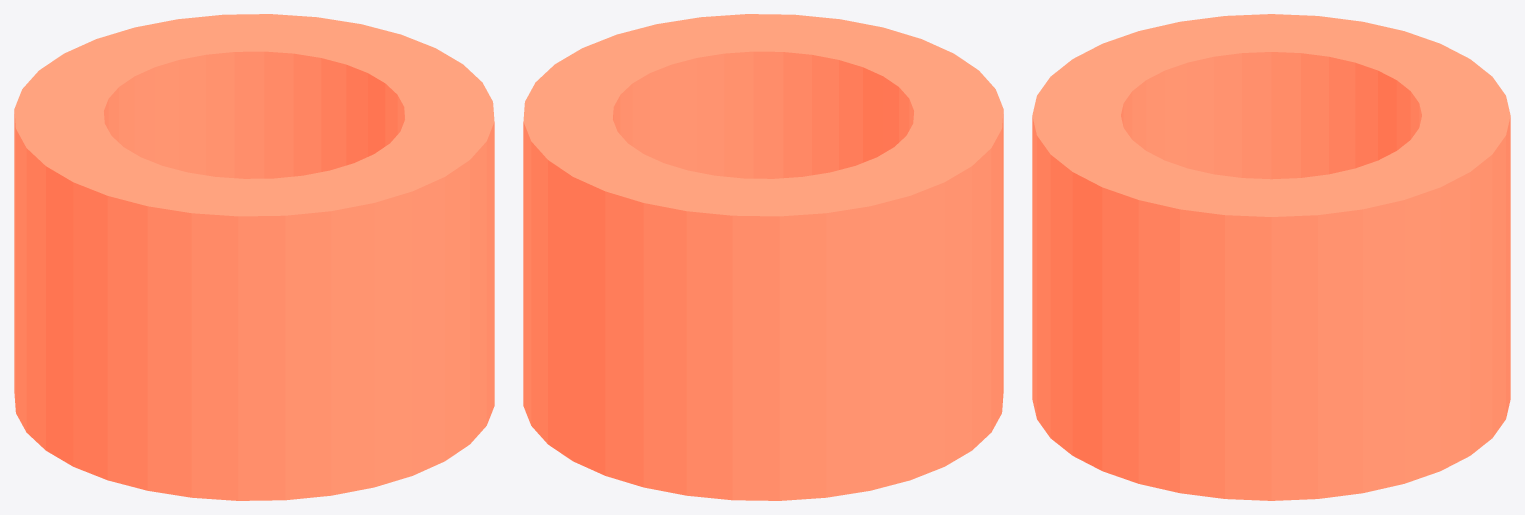
Rendered from ondas_emission.glb.
3 renders of one model, left to right at view 1: azimuth 30°, elevation 25°; view 2: azimuth 150°, elevation 25°; view 3: azimuth 270°, elevation 25°, orthographic.
Parts seen in each view (by area): view 1: Circle.001, Circle.003, Circle.002, Circle.004; view 2: Circle.001, Circle.003, Circle.002, Circle.004; view 3: Circle.001, Circle.003, Circle.002, Circle.004.
Boxes of the visible parts, <box> form: Circle.001: <box>14,14,494,500</box>; Circle.003: <box>46,27,462,203</box>; Circle.002: <box>77,41,431,189</box>; Circle.004: <box>69,35,429,194</box>; Circle.001: <box>523,14,1003,500</box>; Circle.003: <box>555,27,971,203</box>; Circle.002: <box>585,40,941,190</box>; Circle.004: <box>577,36,949,194</box>; Circle.001: <box>1032,14,1510,500</box>; Circle.003: <box>1063,28,1479,203</box>; Circle.002: <box>1095,40,1447,190</box>; Circle.004: <box>1082,36,1460,193</box>.
Size of the model in its own units: 9.97 by 6.5 by 9.92.
